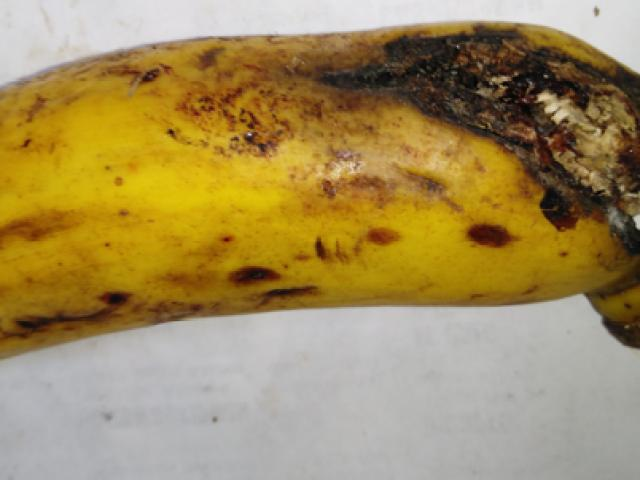rotten: (282, 10, 639, 355)
